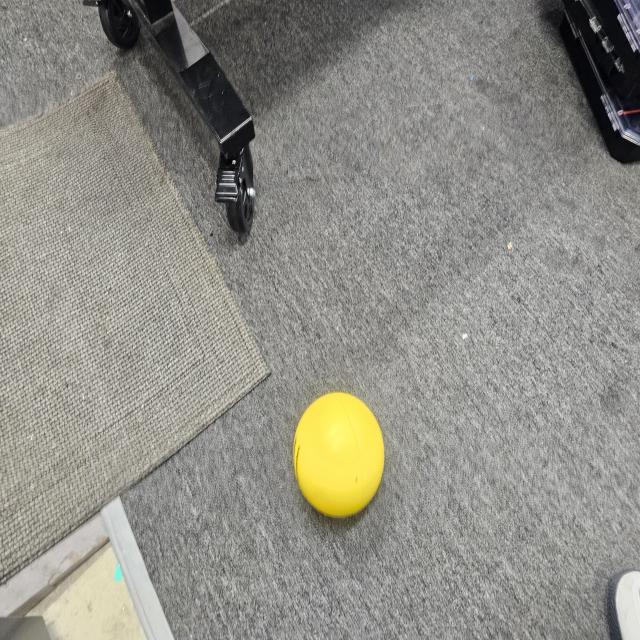Fuel: (289, 385, 389, 524)
